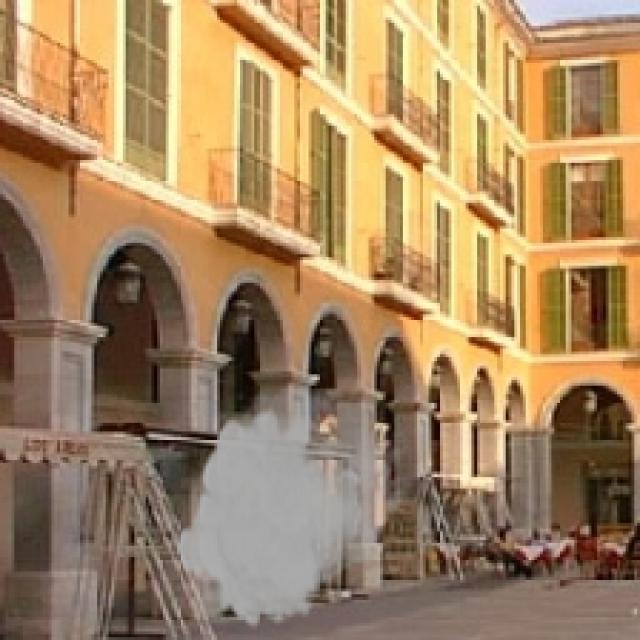Smoke: (175, 388, 412, 632)
